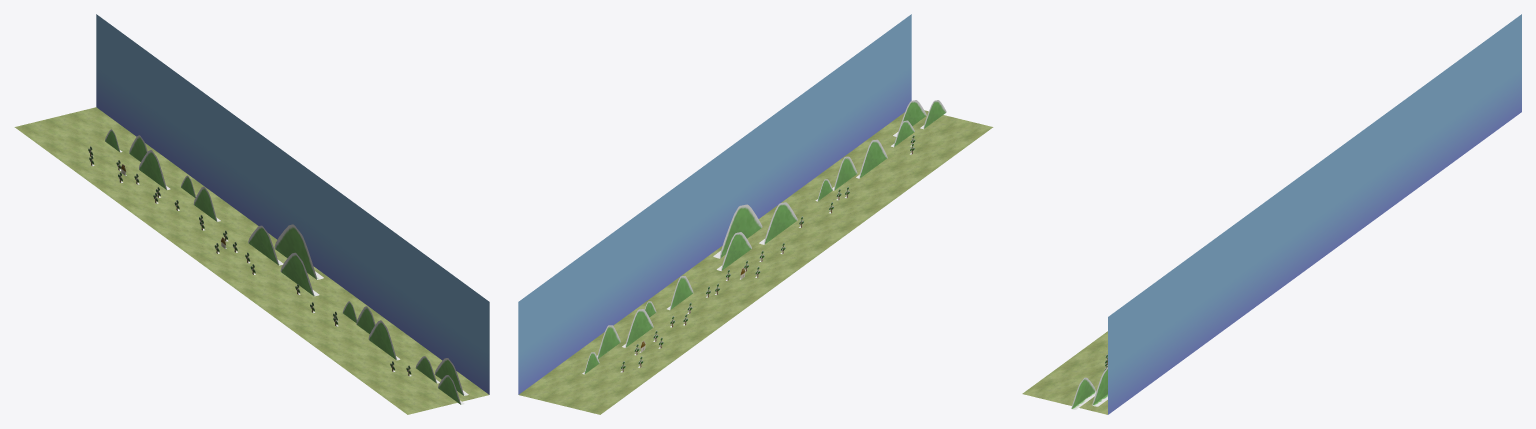
The model's file is model_maps.fbx.
The picture shows the model from 3 angles, left to right: view 1: azimuth 30°, elevation 25°; view 2: azimuth 150°, elevation 25°; view 3: azimuth 330°, elevation 25°; orthographic projection. The views are drawn at different scales.
Parts seen in each view (by area): view 1: BG, yama7, yama8, yama6, yama11, yama3, yama13, yama5; view 2: BG, yama7, yama8, yama6, yama3, yama11; view 3: BG, yama14.
Part boxes in pixels (x1,y1,x2,y2): BG: (14, 14, 489, 414); yama7: (274, 224, 323, 279); yama8: (280, 252, 319, 296); yama6: (248, 225, 283, 265); yama11: (368, 320, 400, 360); yama3: (139, 150, 170, 189); yama13: (434, 358, 468, 395); yama5: (193, 186, 220, 221); BG: (518, 14, 993, 414); yama7: (713, 204, 762, 258); yama8: (759, 202, 797, 244); yama6: (717, 232, 751, 270); yama3: (622, 309, 653, 347); yama11: (856, 139, 887, 178); BG: (1022, 14, 1521, 414); yama14: (1071, 377, 1095, 409).
Bounding box in the file's own units: 102 × 107 × 827.
